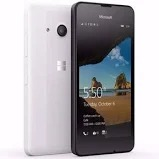nokia: (68, 1, 136, 156)
